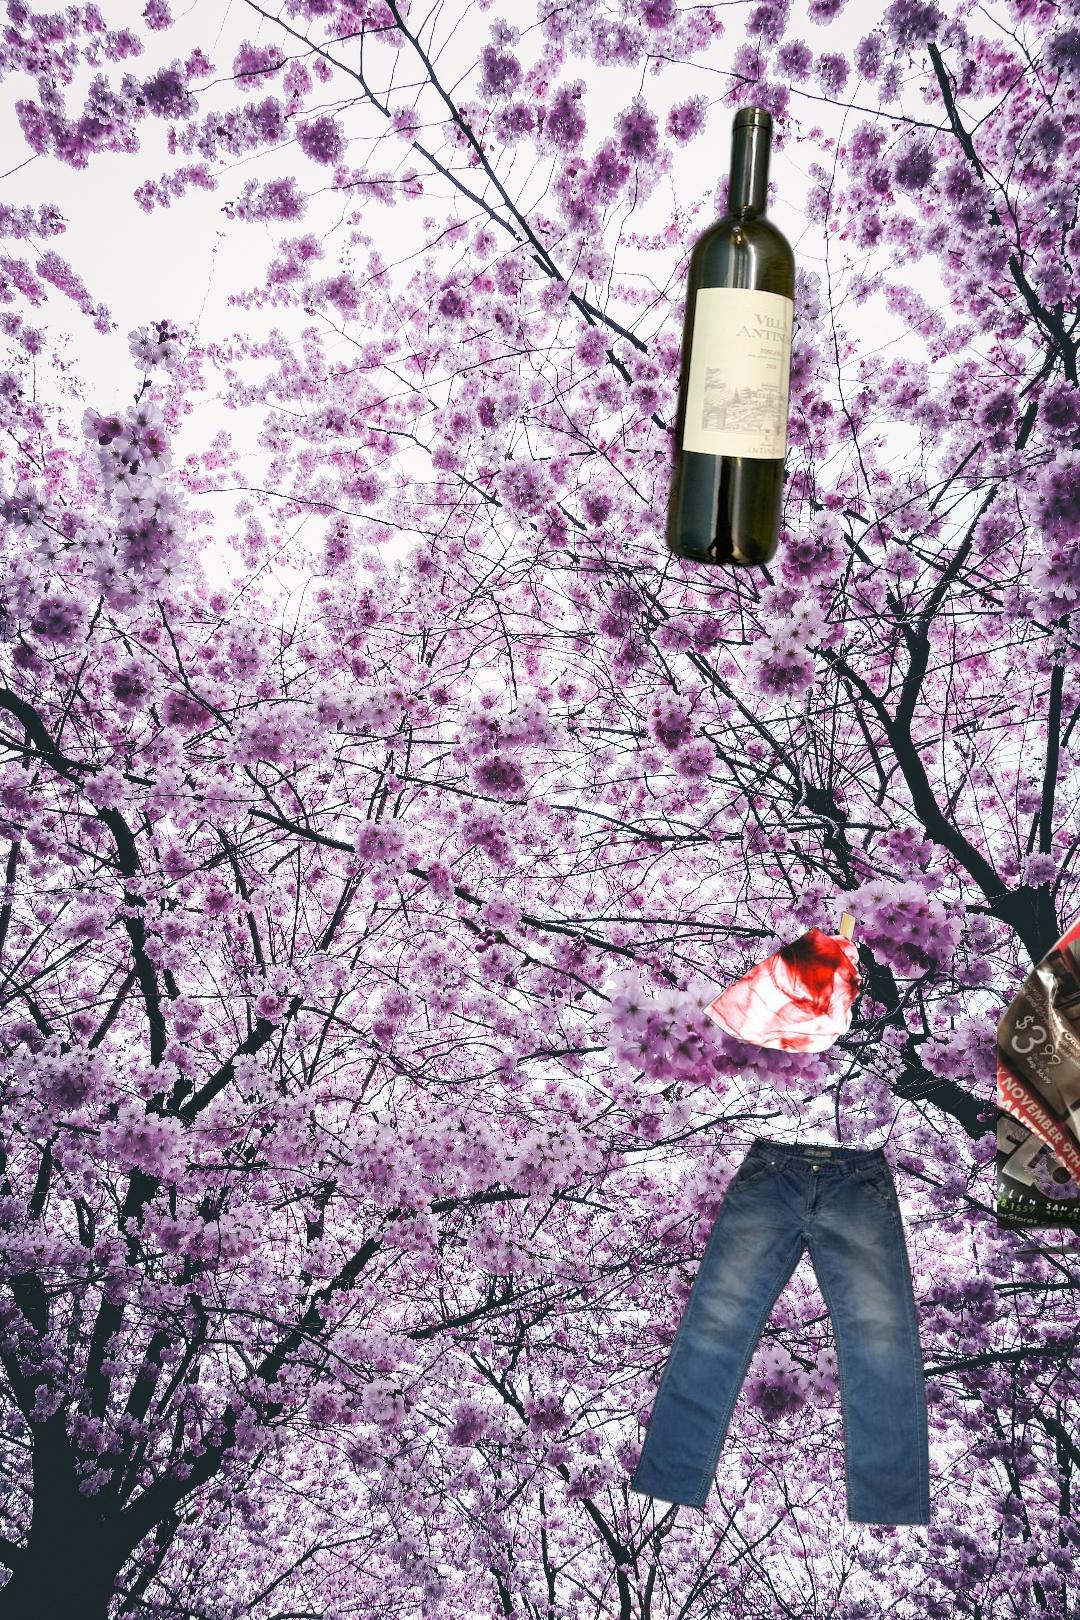clothes: (627, 1133, 934, 1620)
glass: (661, 100, 800, 573)
paper: (997, 870, 1080, 1254)
plastic-bag: (702, 909, 884, 1056)
